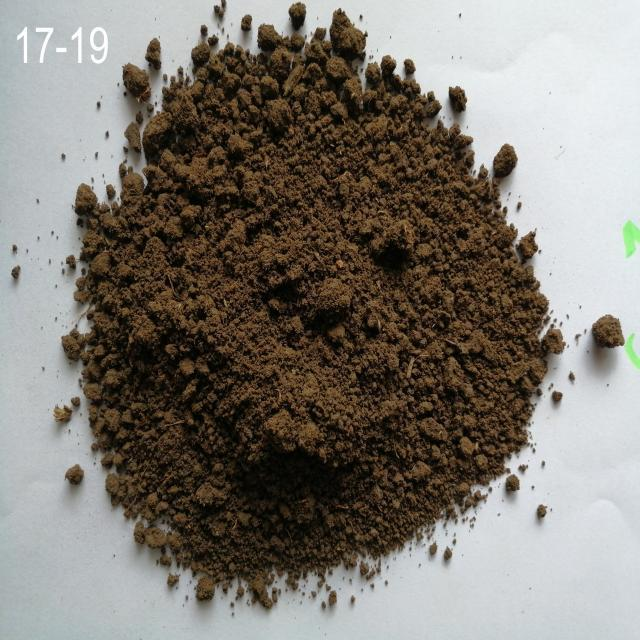soil: (177, 120, 467, 490)
